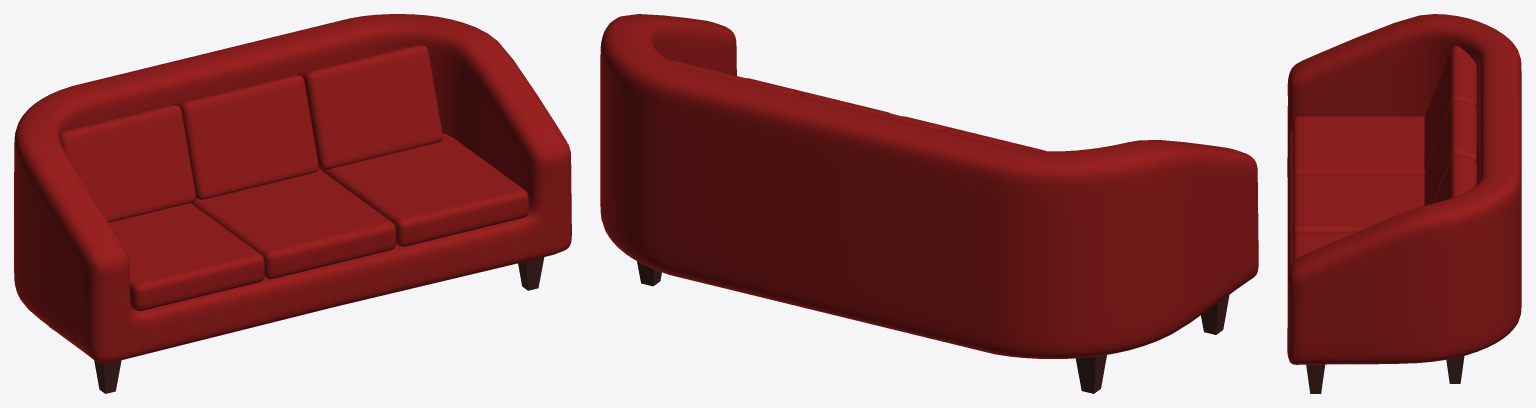
File: sofa_round_red.gltf
3 views of the same model, side by side, from view 1: azimuth 30°, elevation 25°; view 2: azimuth 150°, elevation 25°; view 3: azimuth 270°, elevation 25° (orthographic). The views are drawn at different scales.
Parts seen in each view (by area): view 1: Sofa3; view 2: Sofa3; view 3: Sofa3.
Part boxes in pixels (box(x1,y1,x2,y2)): Sofa3: box(14, 14, 571, 393); Sofa3: box(600, 14, 1258, 393); Sofa3: box(1287, 14, 1521, 393).
Size of the model in its own units: 0.9657 by 0.3974 by 0.4486.
